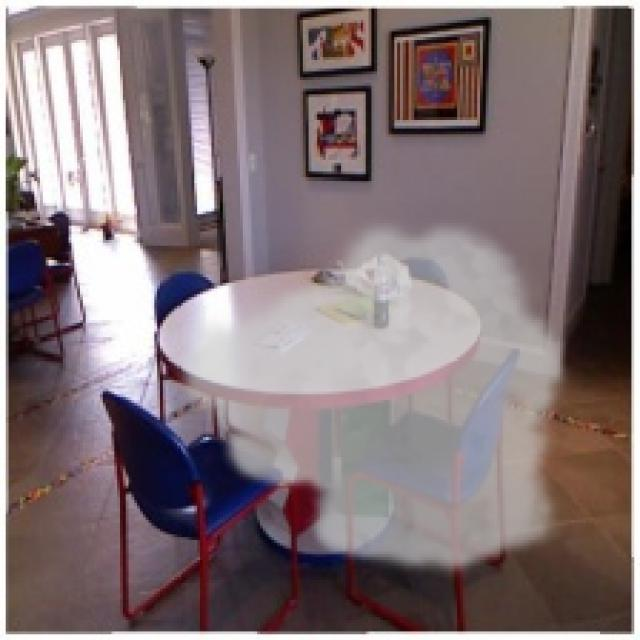smoke: (166, 212, 571, 577)
